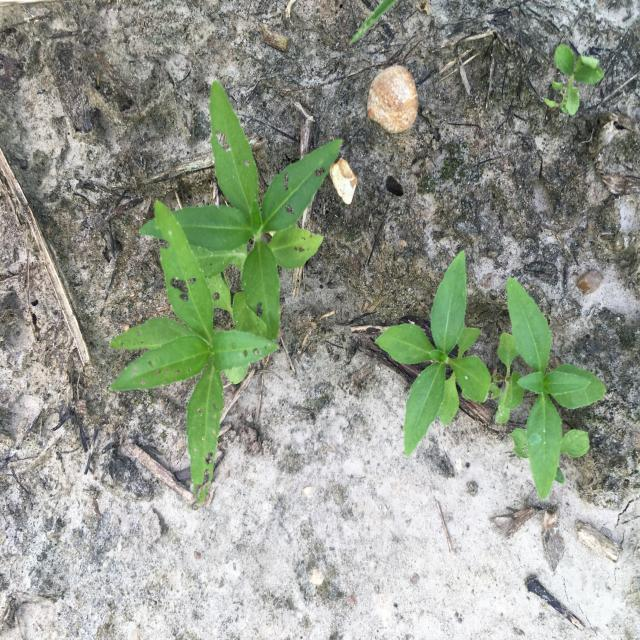Eclipta: (108, 80, 343, 506), (375, 250, 606, 501)
